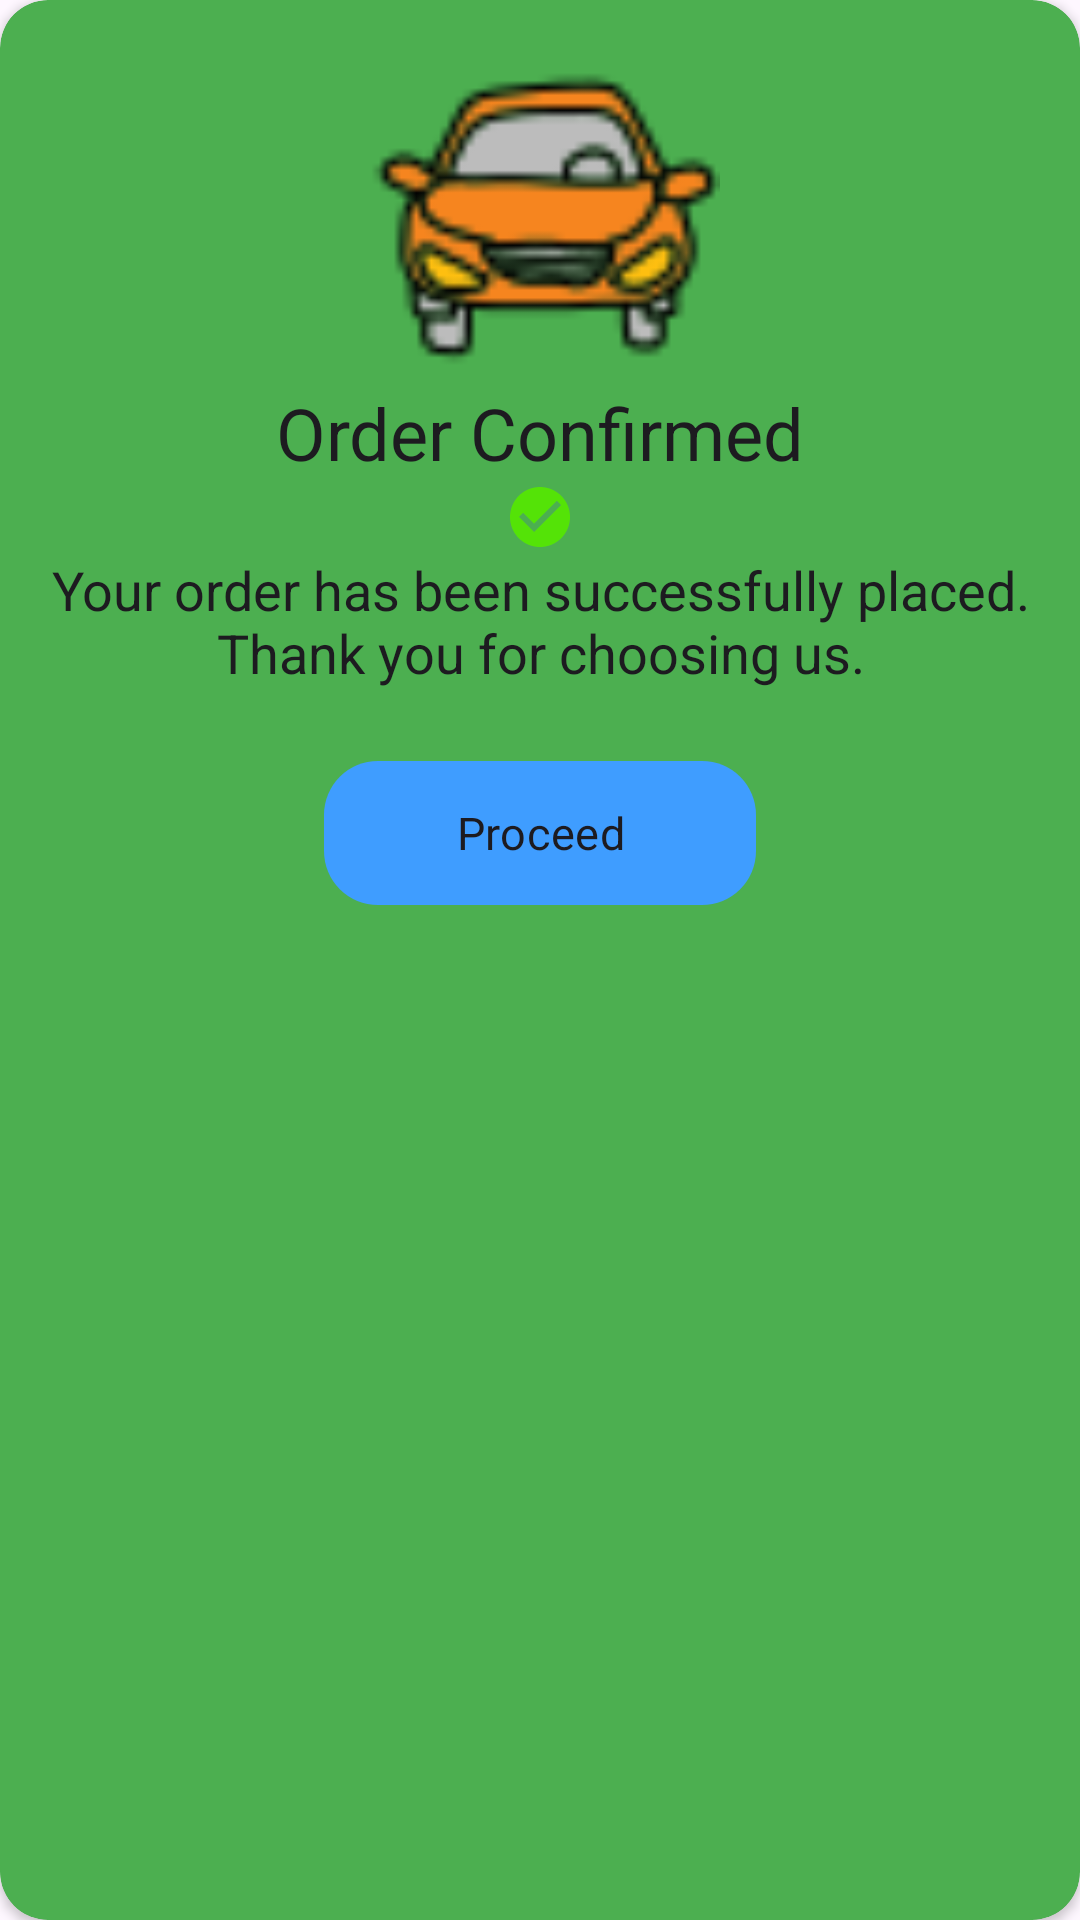

Where icons sit on this 1080w x 1920h app screen, as (x1, y1, x2, y2):
car: (376, 76, 720, 359)
check circle: (510, 487, 570, 547)
